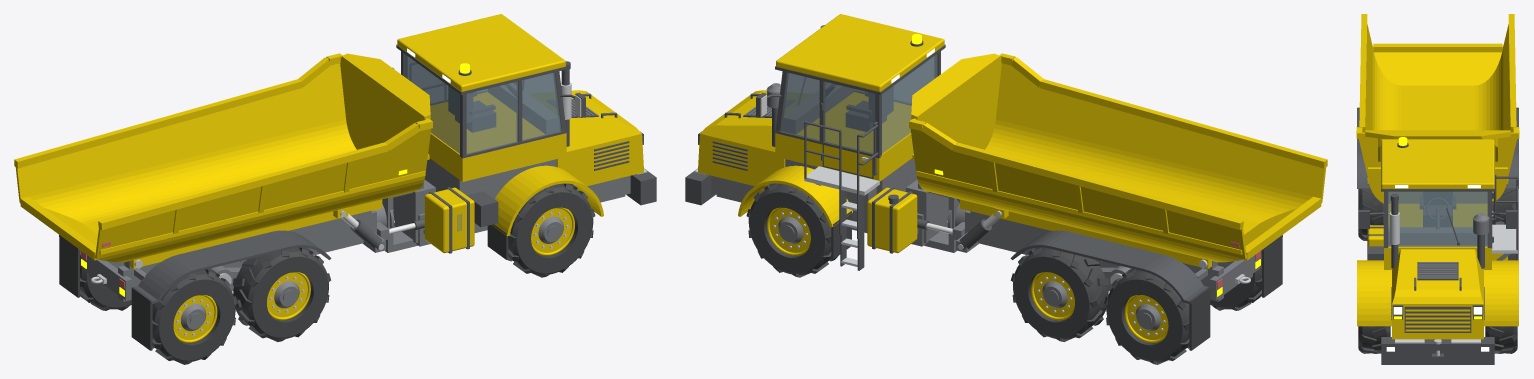
File: Articulated_Dump_Truck_30t.glb
3 renders of one model, left to right at view 1: azimuth 30°, elevation 25°; view 2: azimuth 150°, elevation 25°; view 3: azimuth 270°, elevation 25°, orthographic. The views are drawn at different scales.
Parts seen in each view (by area): view 1: dump_body, cab_glass, cab_roof, body_top_rails, cab_lower, tyre_bogie_front_R, hood, tyre_bogie_rear_R, tyre_front_R, bogie_mudguard_2, rear_frame, front_fender_2 (+26 smaller); view 2: dump_body, cab_glass, cab_roof, body_top_rails, cab_lower, tyre_bogie_front_L, hood, tyre_bogie_rear_L, tyre_front_L, bogie_mudguard, rear_frame, fuel_tank (+27 smaller); view 3: dump_body, cab_roof, hood, cab_glass, front_bumper, front_fender, front_fender_2, cab_lower, body_top_rails, cab_protector, dash, grille (+25 smaller).
Boxes of the visible parts, <box> form: dump_body: <box>15,57,431,262</box>; cab_glass: <box>404,54,561,154</box>; cab_roof: <box>397,14,565,91</box>; body_top_rails: <box>14,53,432,229</box>; cab_lower: <box>428,92,566,181</box>; tyre_bogie_front_R: <box>233,247,331,341</box>; hood: <box>556,90,643,186</box>; tyre_bogie_rear_R: <box>152,268,237,364</box>; tyre_front_R: <box>508,183,595,277</box>; bogie_mudguard_2: <box>134,230,331,304</box>; rear_frame: <box>81,210,376,301</box>; front_fender_2: <box>491,165,603,236</box>; dump_body: <box>910,57,1326,262</box>; cab_glass: <box>780,54,937,153</box>; cab_roof: <box>776,14,944,91</box>; body_top_rails: <box>909,53,1327,229</box>; cab_lower: <box>775,92,913,181</box>; tyre_bogie_front_L: <box>1010,247,1108,341</box>; hood: <box>698,90,785,186</box>; tyre_bogie_rear_L: <box>1104,268,1189,364</box>; tyre_front_L: <box>746,183,837,277</box>; bogie_mudguard: <box>1010,230,1207,304</box>; rear_frame: <box>965,210,1260,301</box>; fuel_tank: <box>867,187,917,253</box>; dump_body: <box>1357,24,1518,203</box>; cab_roof: <box>1381,139,1494,188</box>; hood: <box>1392,249,1483,339</box>; cab_glass: <box>1388,191,1487,247</box>; front_bumper: <box>1381,337,1494,364</box>; front_fender: <box>1484,260,1518,326</box>; front_fender_2: <box>1357,260,1391,326</box>; cab_lower: <box>1384,204,1491,269</box>; body_top_rails: <box>1356,14,1519,138</box>; cab_protector: <box>1365,130,1510,172</box>; dash: <box>1388,227,1487,245</box>; grille: <box>1404,306,1471,332</box>.
Size of the model in its own units: 10.63 by 3.75 by 3.03.
